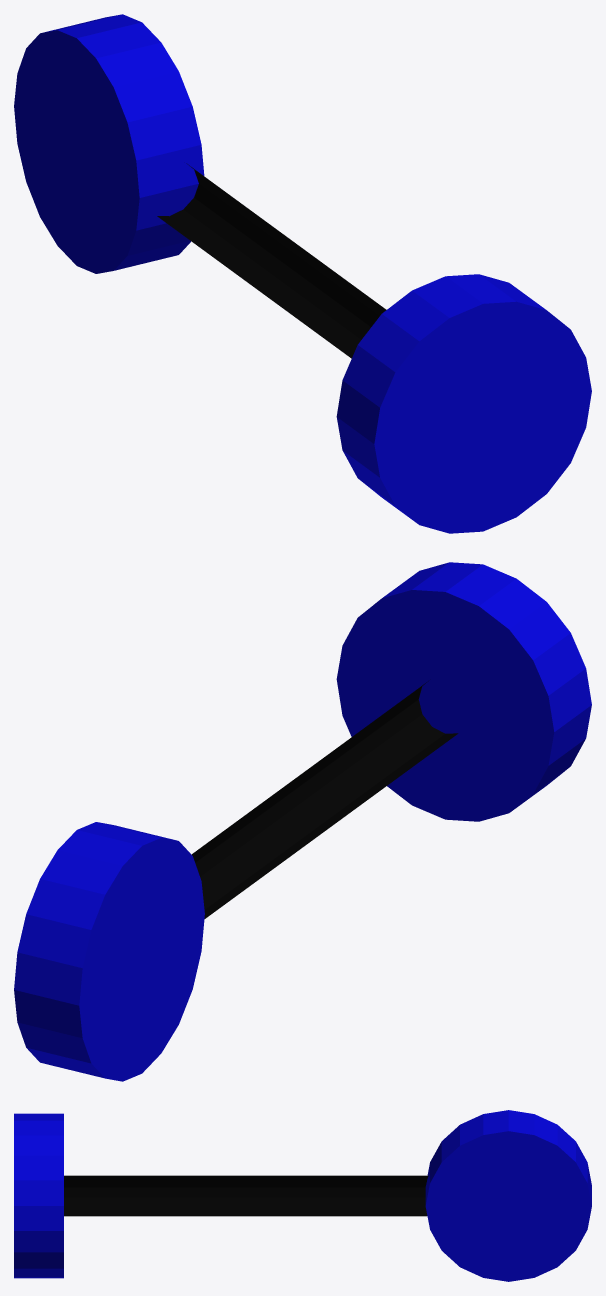
File: Blue_key.fbx
3 views of the same model, one above another, from view 1: azimuth 30°, elevation 25°; view 2: azimuth 150°, elevation 25°; view 3: azimuth 270°, elevation 25° (orthographic). The views are drawn at different scales.
Visible parts, largest first — view 1: Blue_key; view 2: Blue_key; view 3: Blue_key.
Part boxes in pixels (x1=…): Blue_key: x1=14, y1=14, x2=591, y2=533; Blue_key: x1=14, y1=562, x2=591, y2=1081; Blue_key: x1=14, y1=1110, x2=591, y2=1281.
Size of the model in its own units: 0.05 by 0.05 by 0.1737.
